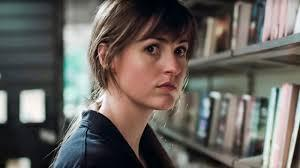Persons: (79, 0, 206, 113)
